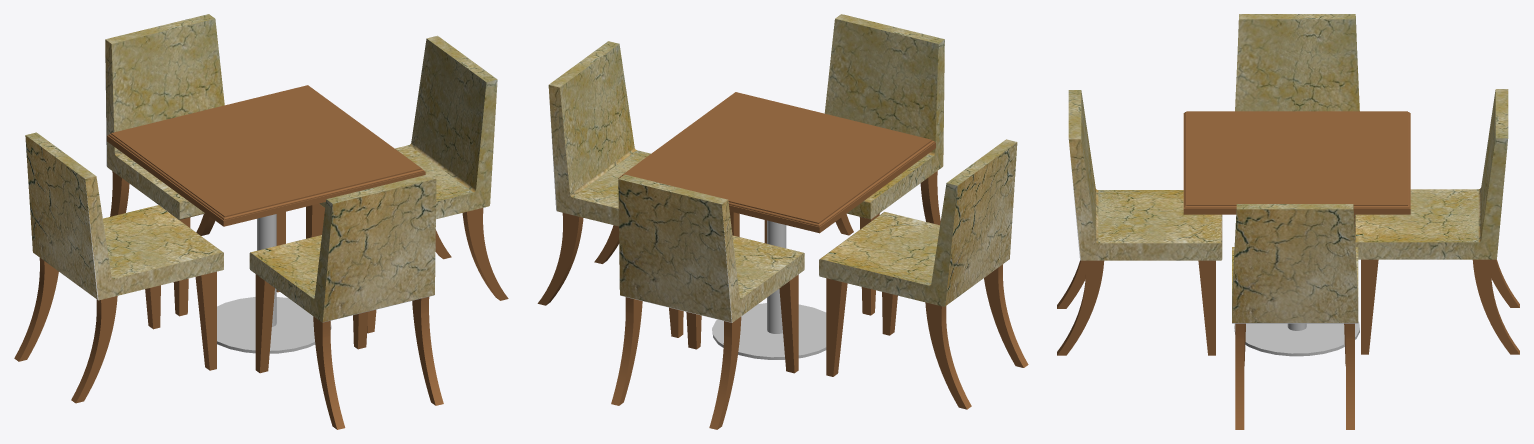
File: 4-tops_Table-for-4.fbx
The picture shows the model from 3 angles, left to right: view 1: azimuth 30°, elevation 25°; view 2: azimuth 150°, elevation 25°; view 3: azimuth 270°, elevation 25°; orthographic projection. The views are drawn at different scales.
Visible parts, largest first — view 1: table1, chair2, chair4, chair3, chair1; view 2: table1, chair3, chair4, chair2, chair1; view 3: table1, chair1, chair2, chair3, chair4.
Part boxes in pixels (bbox=[...]): table1: bbox=[107, 85, 425, 353]; chair2: bbox=[249, 174, 443, 429]; chair4: bbox=[14, 132, 223, 403]; chair3: bbox=[105, 14, 285, 316]; chair1: bbox=[306, 35, 508, 333]; table1: bbox=[618, 92, 935, 359]; chair3: bbox=[611, 174, 804, 429]; chair4: bbox=[819, 139, 1028, 409]; chair2: bbox=[764, 14, 944, 315]; chair1: bbox=[537, 41, 739, 337]; table1: bbox=[1183, 111, 1410, 356]; chair1: bbox=[1232, 204, 1358, 429]; chair2: bbox=[1057, 90, 1222, 355]; chair3: bbox=[1354, 89, 1519, 354]; chair4: bbox=[1235, 14, 1359, 224].
Size of the model in its own units: 77.04 by 37.73 by 73.38.
